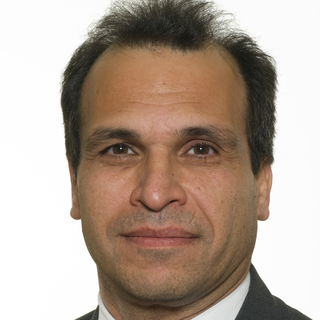eye: (177, 139, 225, 164), (96, 139, 143, 163)
